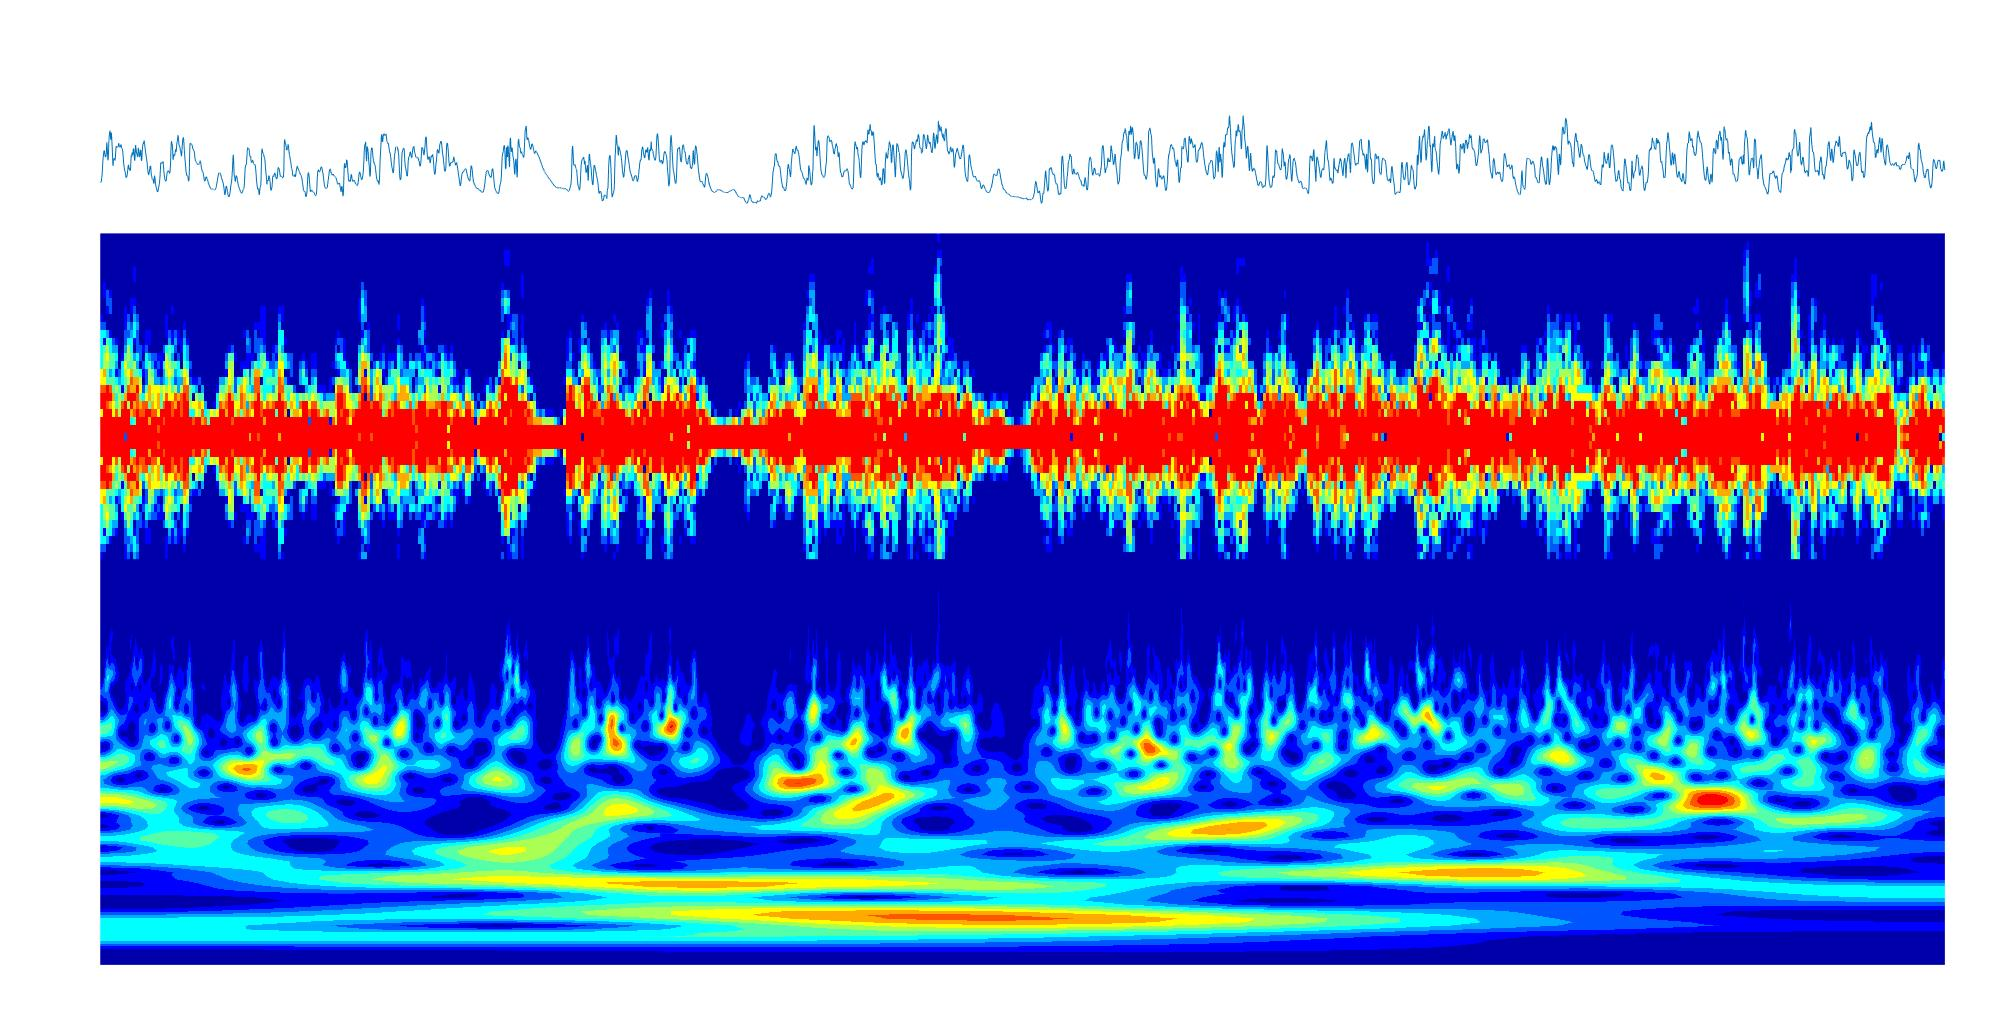TURBULENT: (1036, 233, 1944, 964), (221, 235, 473, 965), (775, 235, 973, 965), (566, 232, 708, 965), (100, 236, 199, 965), (496, 235, 538, 965)
